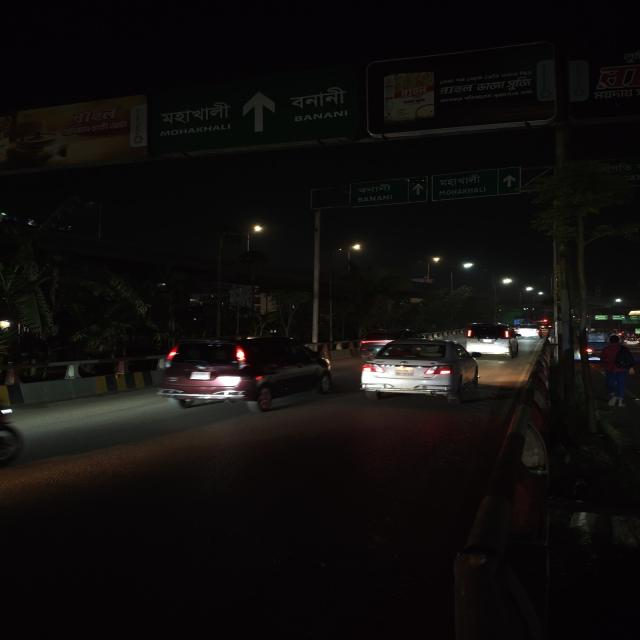car: (154, 335, 334, 414), (355, 337, 482, 405), (462, 322, 521, 358), (516, 324, 540, 340)
pedestrian: (598, 333, 638, 408)
